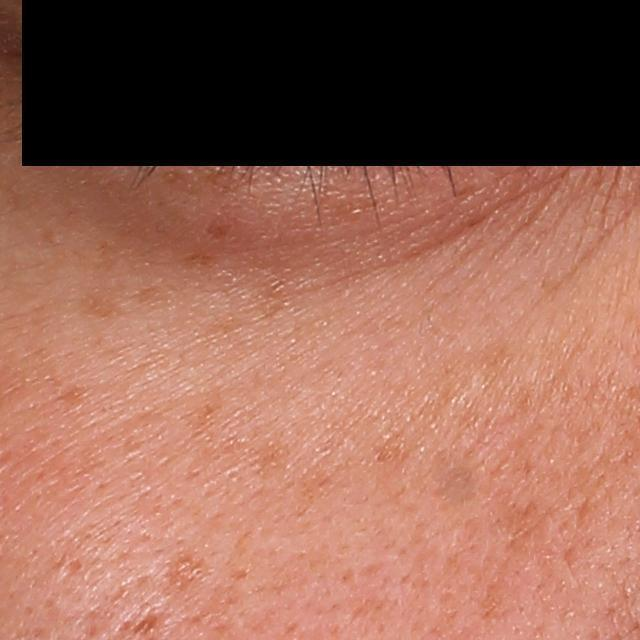melasma: (85, 282, 129, 319), (372, 438, 409, 467)
